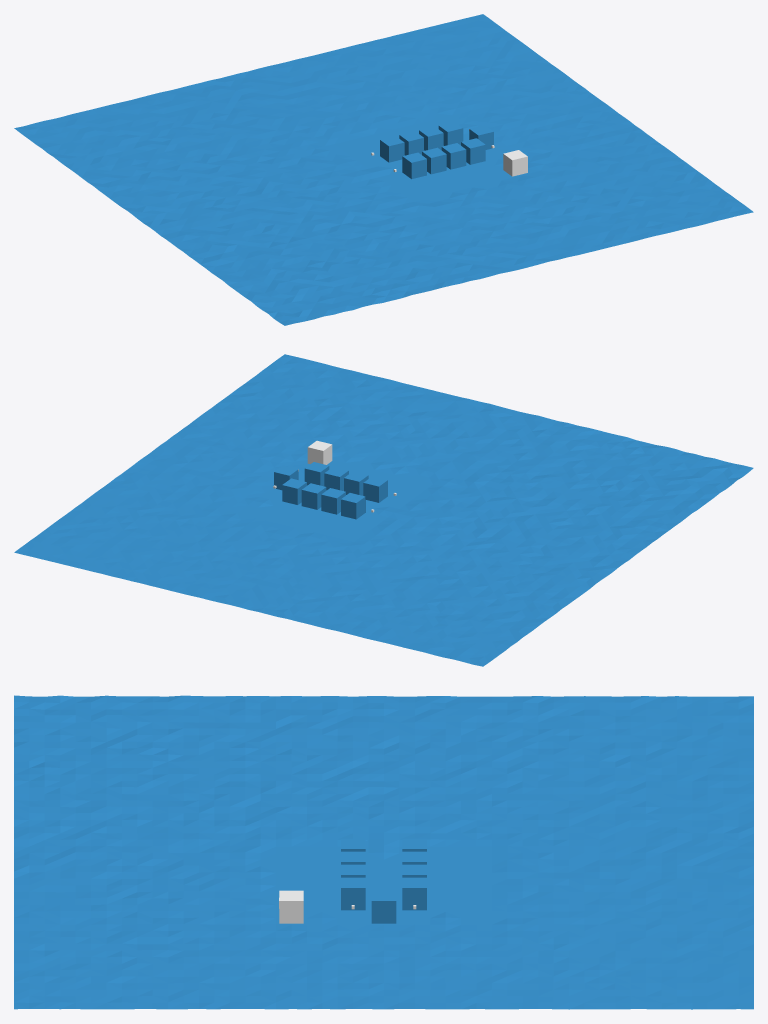
3 renders of one model, top to bottom at view 1: azimuth 30°, elevation 25°; view 2: azimuth 150°, elevation 25°; view 3: azimuth 270°, elevation 25°, orthographic. The views are drawn at different scales.
Visible parts, largest first — view 1: Plane, Block, Enemy3, Enemy7; view 2: Plane, Enemy7, Enemy3, Block; view 3: Plane, Enemy8, Block, Enemy0, Enemy4.
Part boxes in pixels (x1,y1,x2,y2): Plane: (14, 14, 753, 325); Block: (503, 150, 527, 176); Enemy3: (402, 152, 426, 179); Enemy7: (380, 136, 404, 162); Plane: (14, 354, 753, 666); Enemy7: (341, 493, 365, 519); Enemy3: (363, 476, 387, 502); Block: (307, 440, 332, 464); Plane: (14, 695, 753, 1009); Enemy8: (371, 890, 396, 923); Block: (279, 890, 303, 923); Enemy0: (341, 877, 365, 910); Enemy4: (402, 877, 426, 910).
Size of the model in its own units: 24 by 24 by 0.8.
